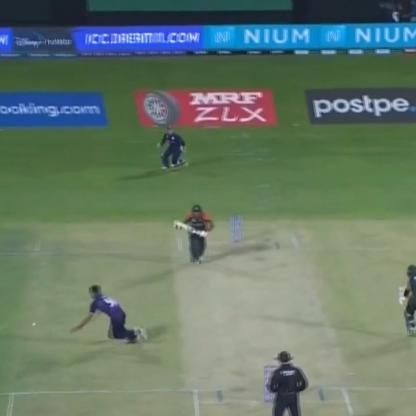pitch: (178, 229, 360, 412), (21, 317, 41, 331)
